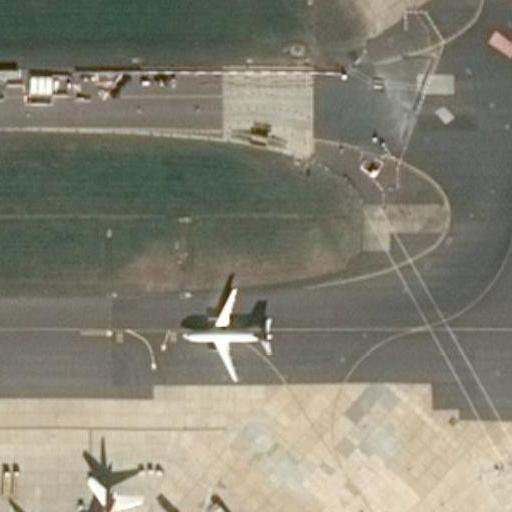Aircraft: (173, 277, 282, 378), (1, 460, 182, 512)
